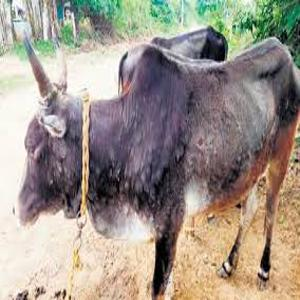lumpy skin diesease: (12, 25, 299, 299)
